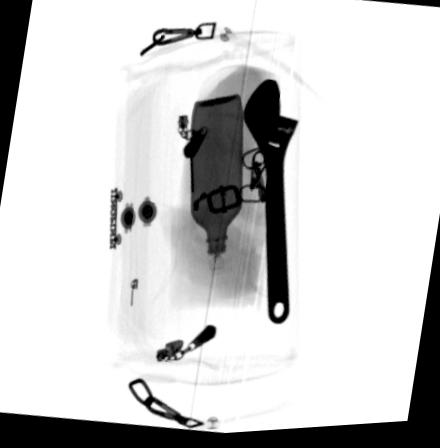Wrench: (240, 81, 301, 331)
